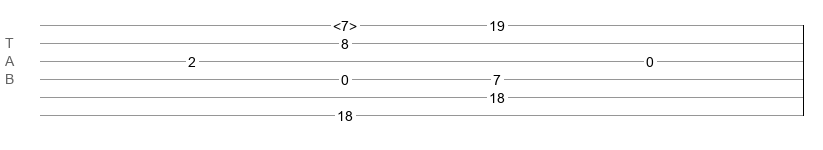0: (341, 72, 349, 82), (646, 54, 654, 64)
18: (337, 108, 353, 118), (489, 90, 505, 100)
19: (489, 18, 505, 28)
2: (188, 54, 196, 64)
7: (493, 72, 501, 82)
8: (341, 36, 349, 46)
harmonic: (333, 18, 357, 28)
